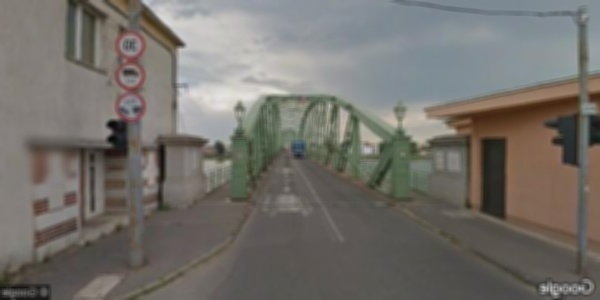b_speed_limit: (116, 30, 145, 59)
f_others: (114, 91, 146, 122), (115, 60, 145, 90)
